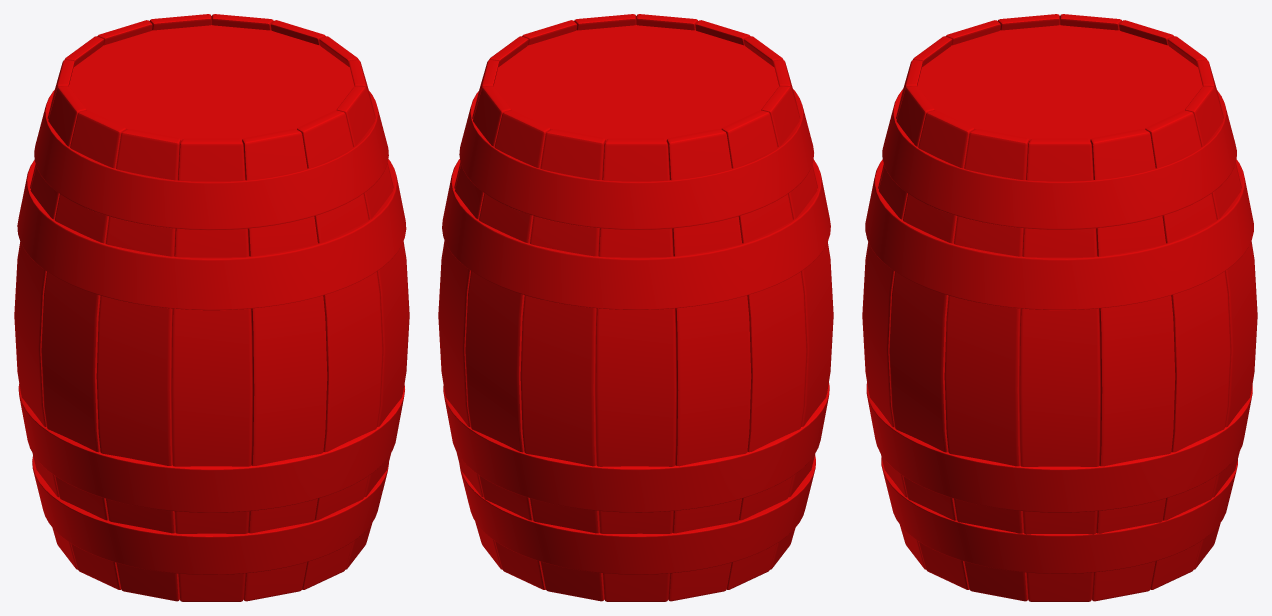
The model's file is SM_Barrel.fbx.
3 views of the same model, side by side, from view 1: azimuth 30°, elevation 25°; view 2: azimuth 150°, elevation 25°; view 3: azimuth 270°, elevation 25° (orthographic).
Parts seen in each view (by area): view 1: SM_Barrel; view 2: SM_Barrel; view 3: SM_Barrel.
Boxes of the visible parts, x1=… form: SM_Barrel: x1=14, y1=14, x2=409, y2=601; SM_Barrel: x1=438, y1=14, x2=833, y2=601; SM_Barrel: x1=862, y1=14, x2=1257, y2=601.
Bounding box in the file's own units: 59.33 × 59.65 × 76.52.
